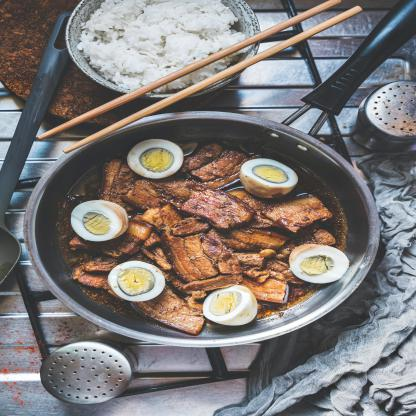Carne: (172, 228, 234, 283), (257, 194, 334, 230), (124, 204, 193, 244), (181, 147, 252, 184), (136, 225, 210, 257), (183, 190, 250, 224), (119, 177, 198, 205), (171, 258, 222, 292), (154, 294, 196, 330), (235, 224, 284, 251), (73, 253, 113, 279)
